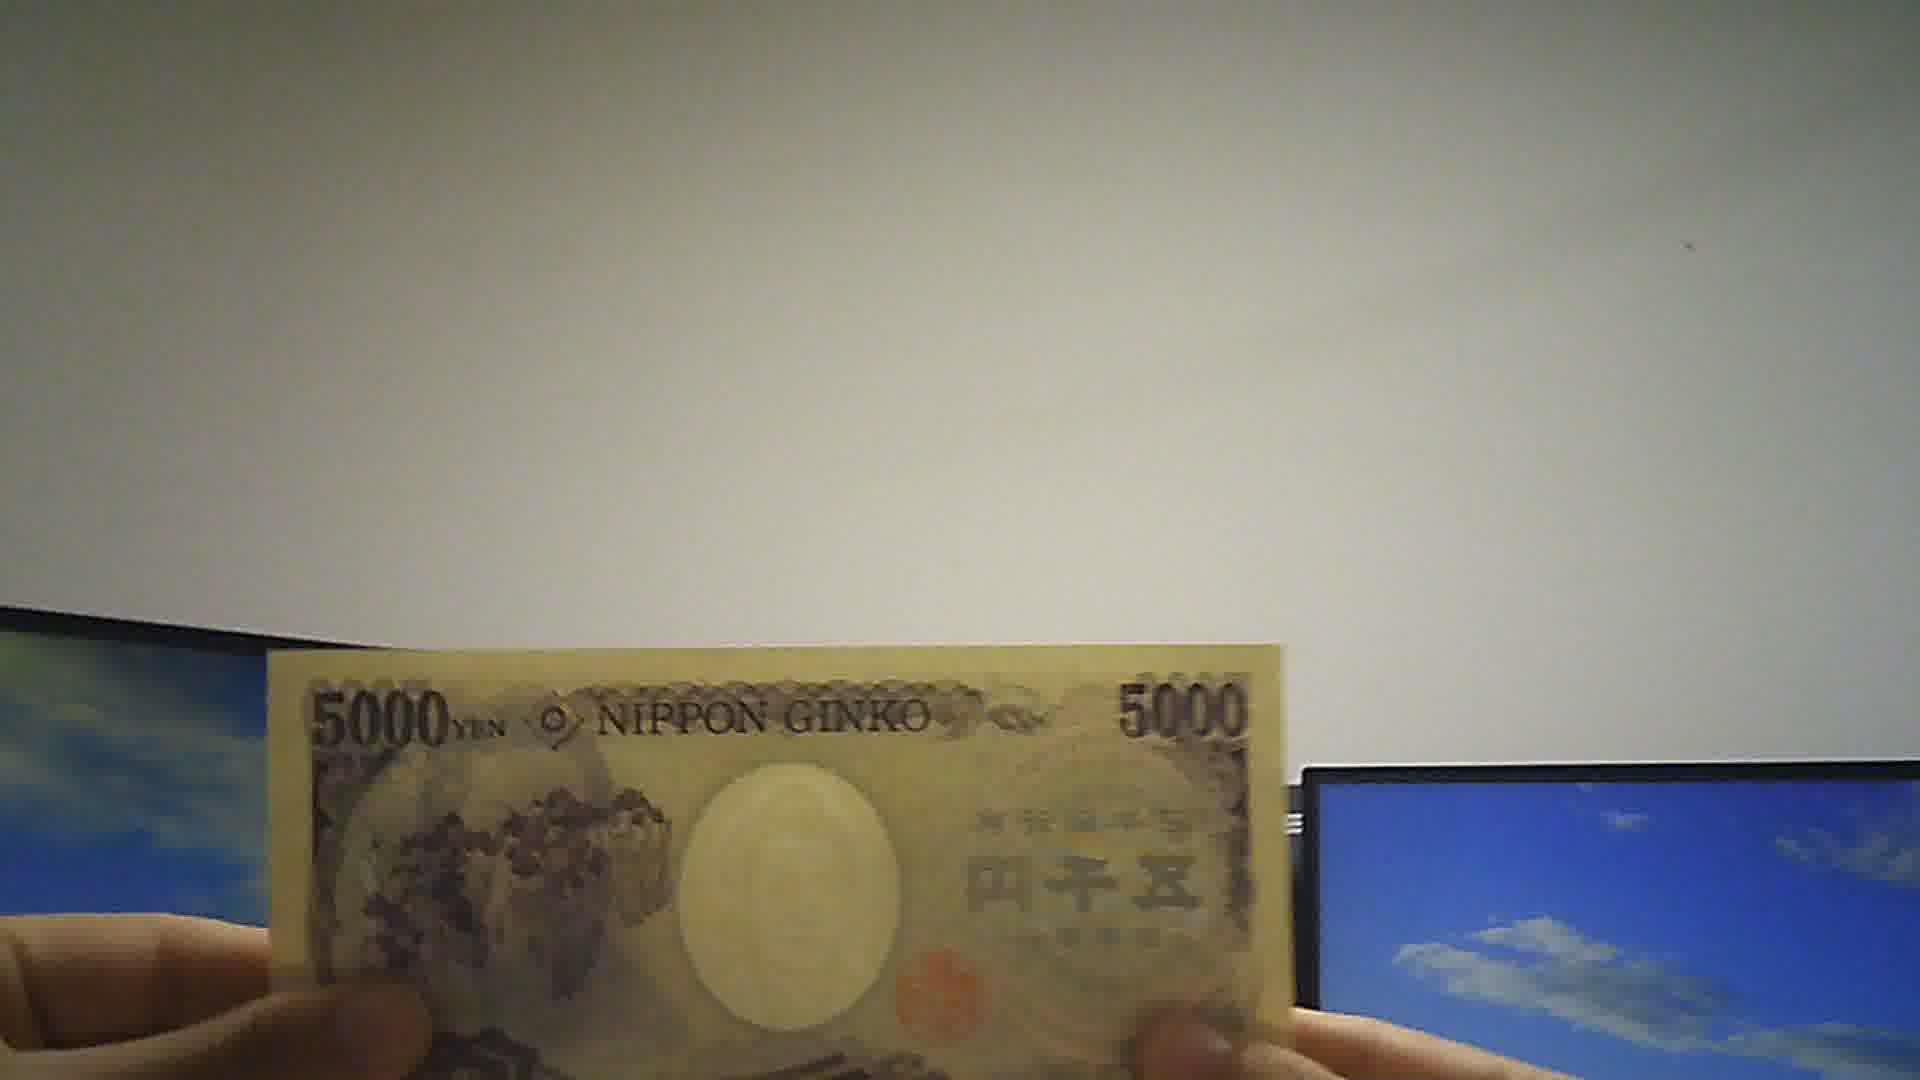5,000 Yen: (247, 624, 1280, 1079)
